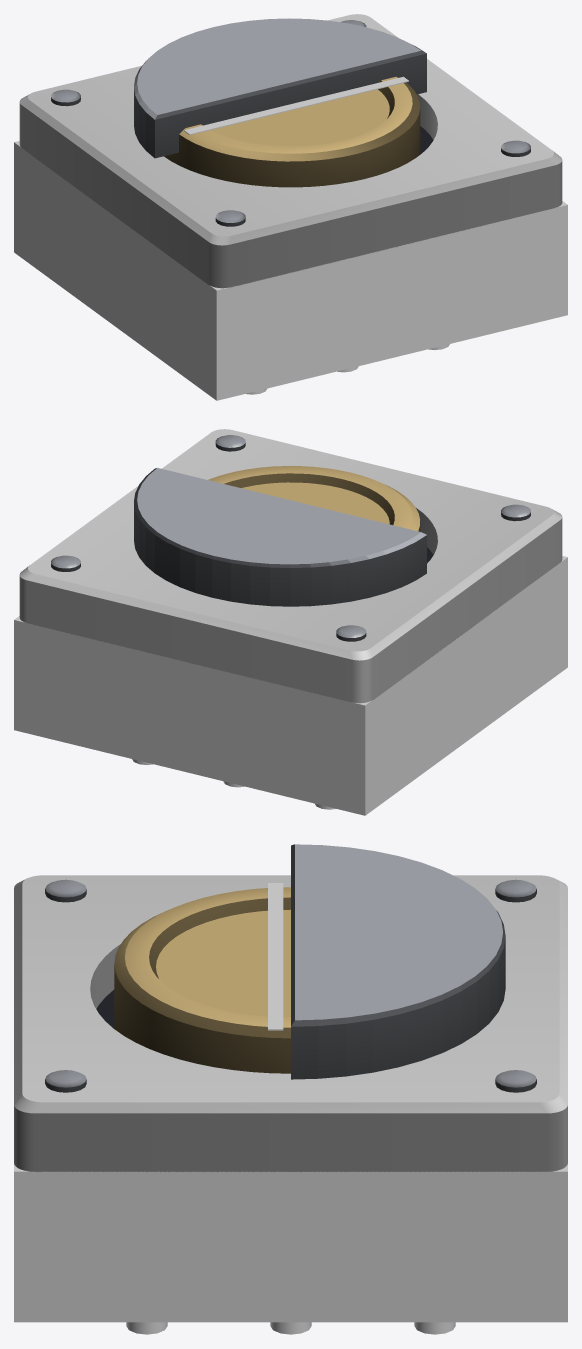
File: part_coin_validator.glb
The picture shows the model from 3 angles, top to bottom: view 1: azimuth 30°, elevation 25°; view 2: azimuth 150°, elevation 25°; view 3: azimuth 270°, elevation 25°; orthographic projection. The views are drawn at different scales.
Visible parts, largest first — view 1: Gehaeuse, Plattform, Korpus, Licht; view 2: Gehaeuse, Plattform, Korpus; view 3: Plattform, Gehaeuse, Korpus, Licht, Stecker.
Part boxes in pixels (box(x1,y1,x2,y2)): Gehaeuse: box(14, 141, 567, 400); Plattform: box(19, 14, 562, 288); Korpus: box(51, 18, 530, 226); Licht: box(184, 76, 408, 134); Gehaeuse: box(14, 556, 567, 815); Plattform: box(19, 429, 562, 703); Korpus: box(51, 435, 530, 641); Plattform: box(14, 875, 567, 1172); Gehaeuse: box(14, 1164, 567, 1322); Korpus: box(45, 844, 536, 1092); Licht: box(268, 883, 283, 1030); Stecker: box(126, 1322, 455, 1334).
Size of the model in its own units: 0.8 by 0.53 by 0.8.
